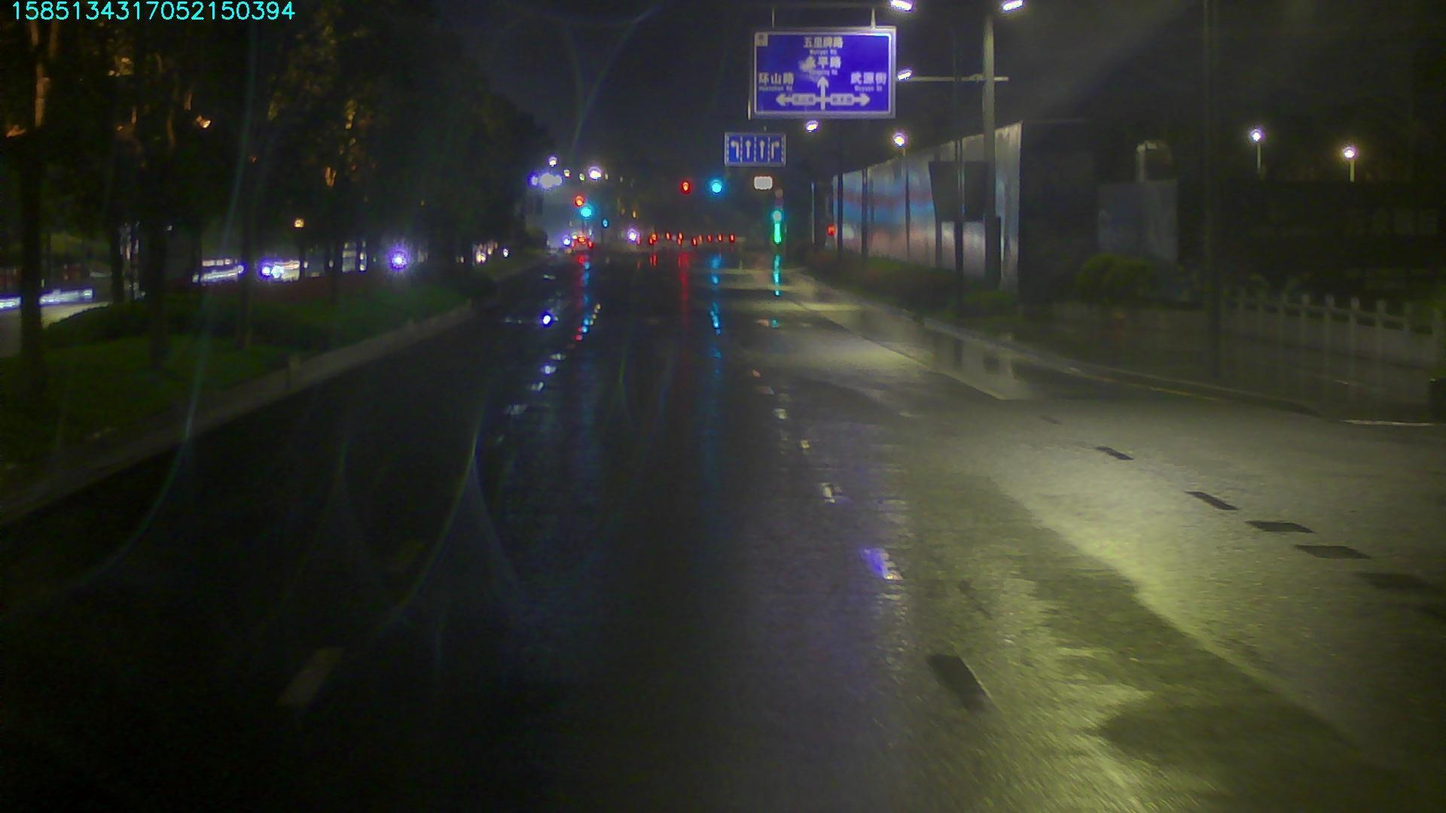green: (707, 175, 729, 195)
red: (676, 172, 695, 196)
